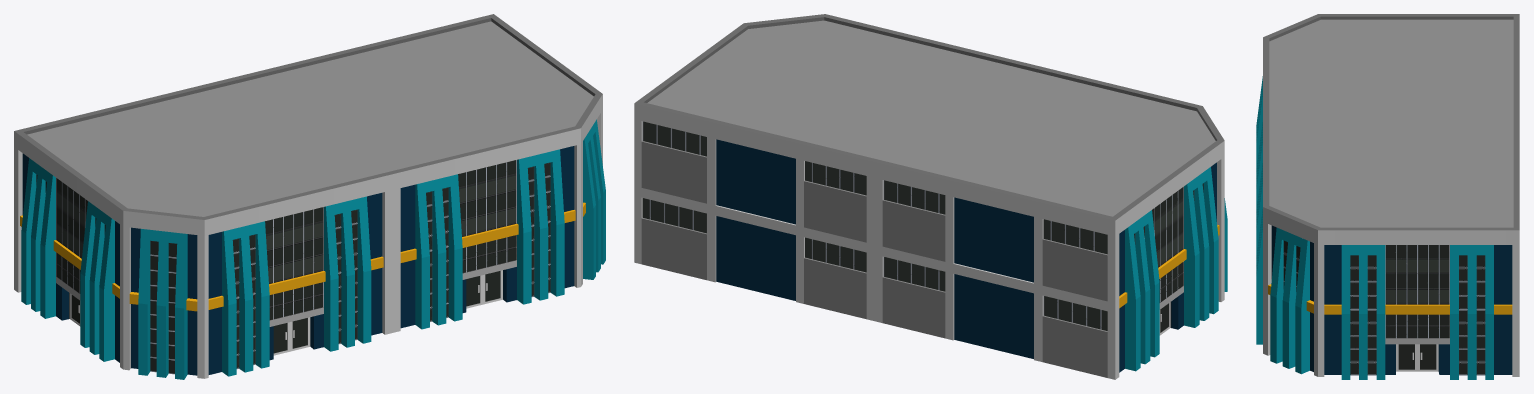
The picture shows the model from 3 angles, left to right: view 1: azimuth 30°, elevation 25°; view 2: azimuth 150°, elevation 25°; view 3: azimuth 270°, elevation 25°; orthographic projection. The views are drawn at different scales.
Parts seen in each view (by area): view 1: DC-07; view 2: DC-07; view 3: DC-07.
Boxes of the visible parts, x1,y1,x2,y2 form: DC-07: (14, 14, 605, 379); DC-07: (634, 14, 1227, 379); DC-07: (1256, 14, 1519, 379).
Size of what is drawn, in the model's own units: 39.7 by 12.25 by 19.91.
